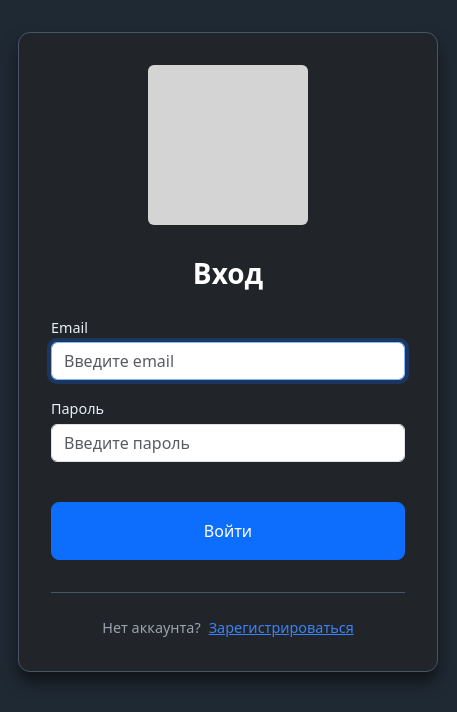
it: показывает ошибку когда поля пусты
Click the button "Войти" at (228, 531), box [51, 502, 405, 560]
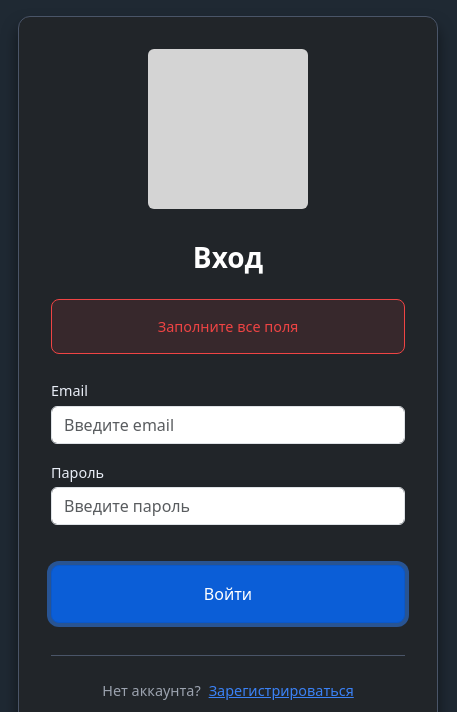
Expected: the text "Заполните все поля" is shown, [51, 299, 405, 354]
